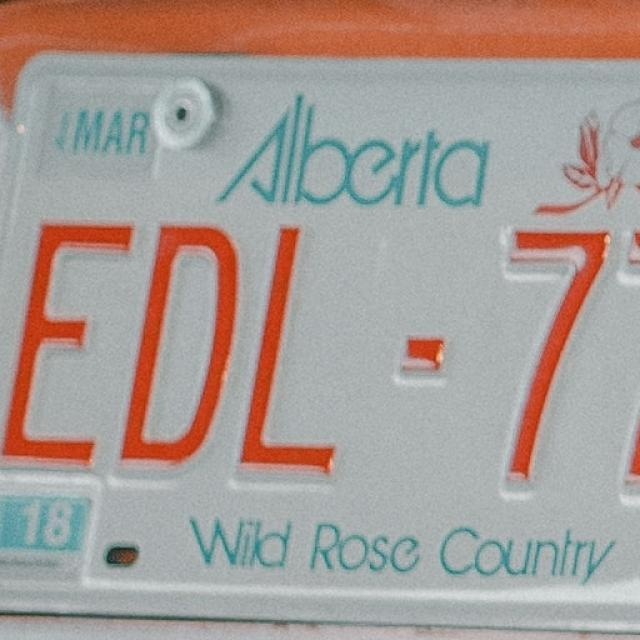LicensePlate: (1, 39, 640, 630)
